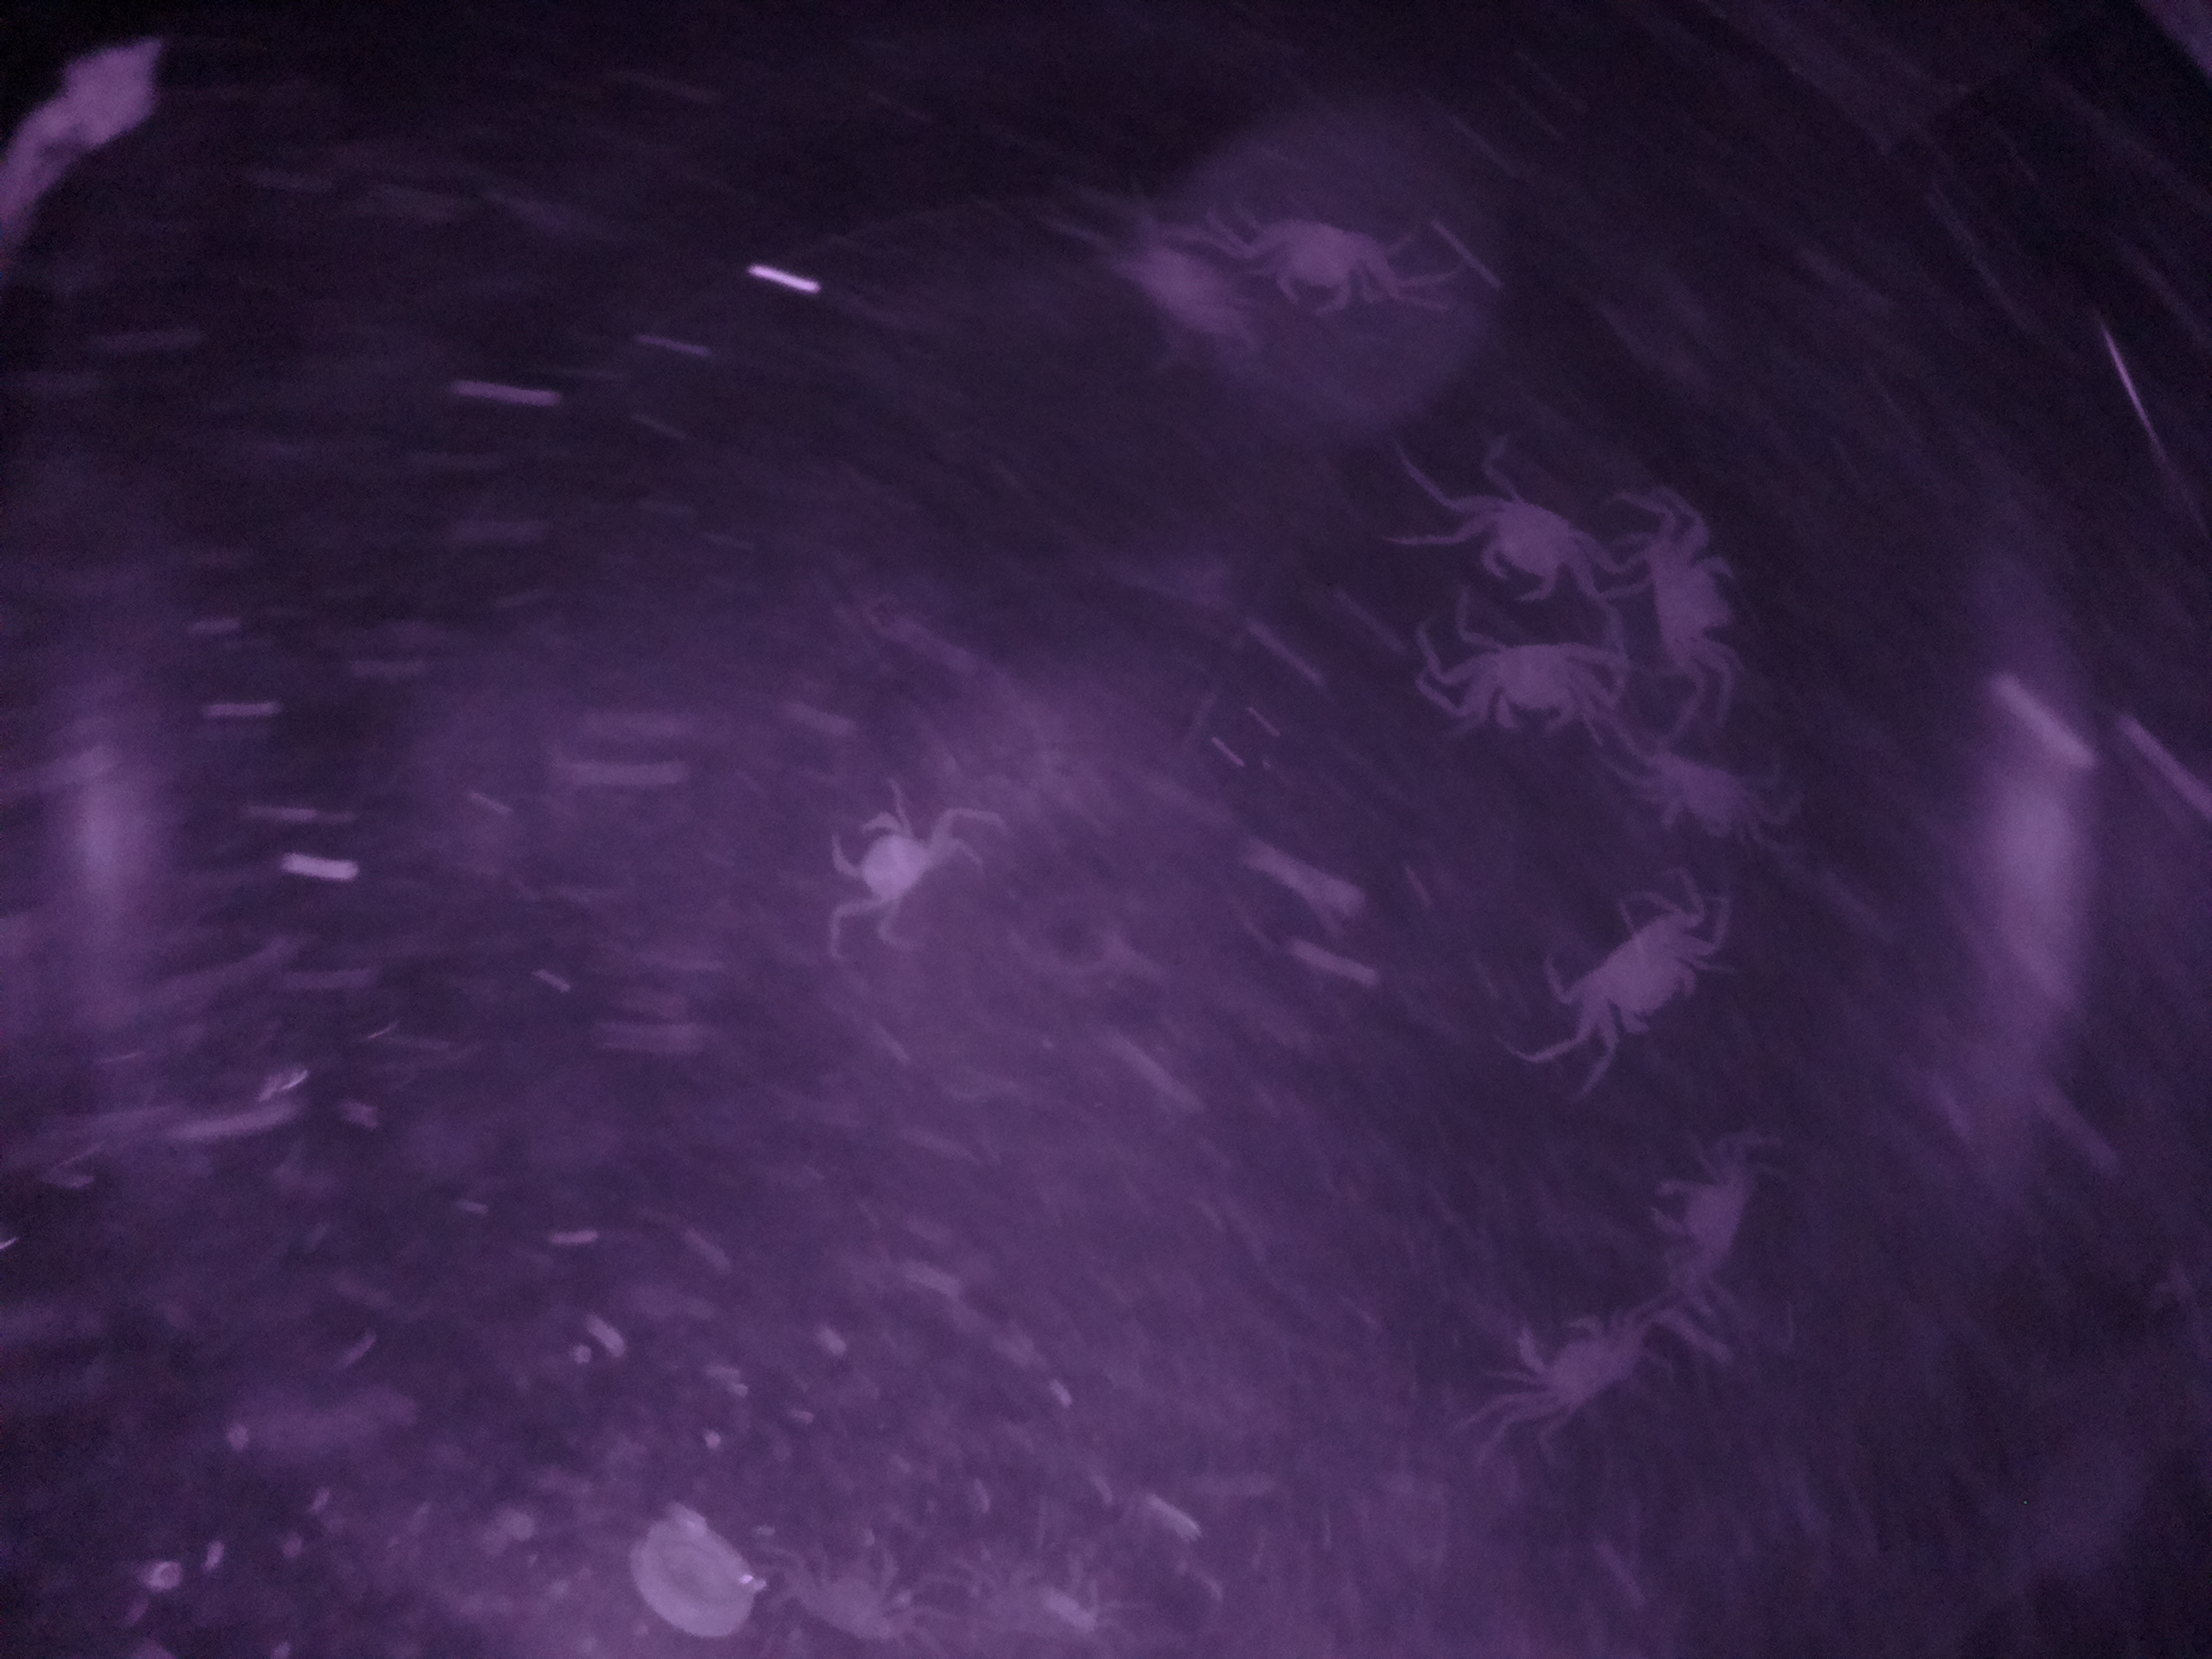Crab: (1561, 884, 1716, 1061), (1435, 455, 1608, 606), (1632, 497, 1771, 681), (1433, 617, 1616, 751)
